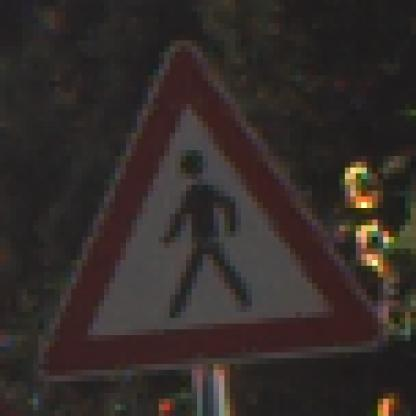crosswalk: (40, 37, 395, 396)
